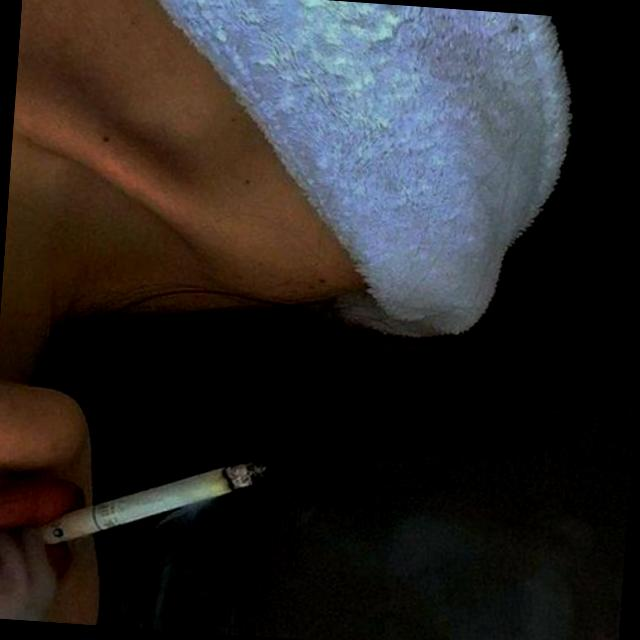cigarette: (90, 438, 268, 548)
